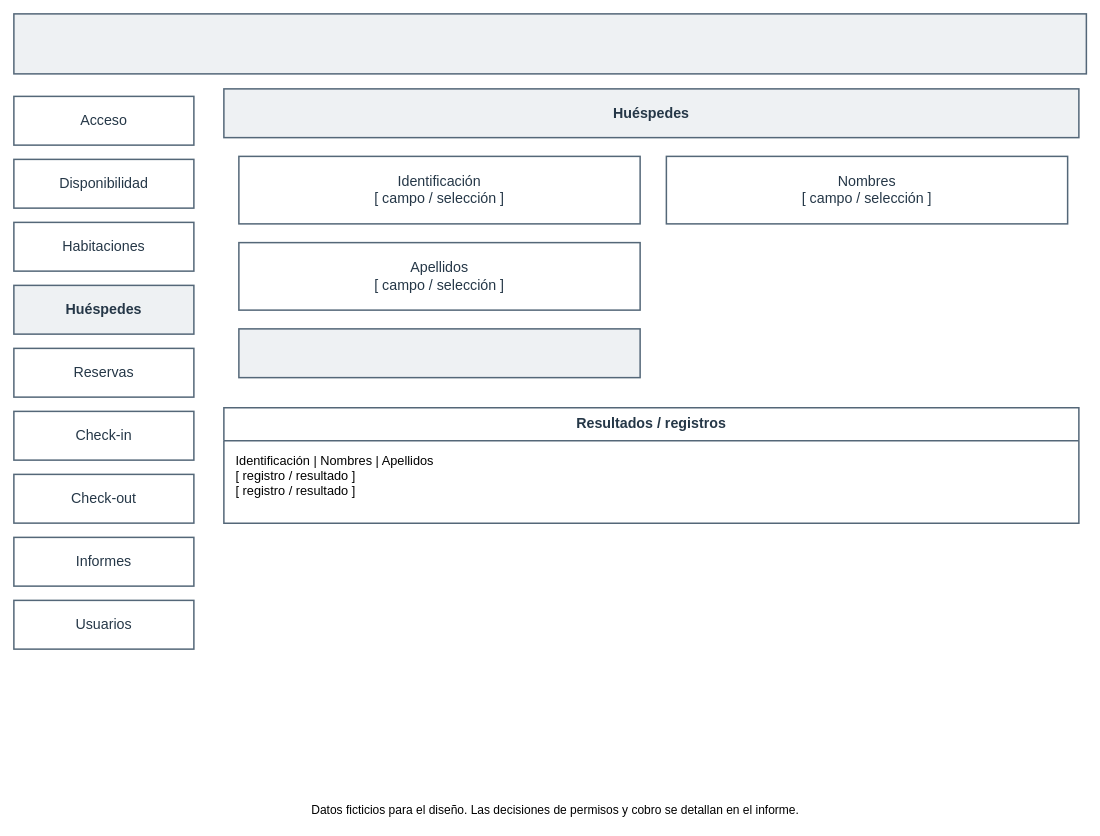
The diagram is 1100 pixels wide and 836 high, and some of its shapes have lost their labels. The shapes that lost their labels are listed below. From the top down, each one's centre as x and y in pixels, then its label:
pixel 550 43: Hotel Duerme Bien · Sistema de pasajeros
pixel 439 353: Guardar huésped
